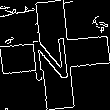N_N: (32, 28, 78, 82)
